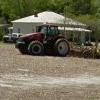Tractor: (11, 21, 70, 60)
